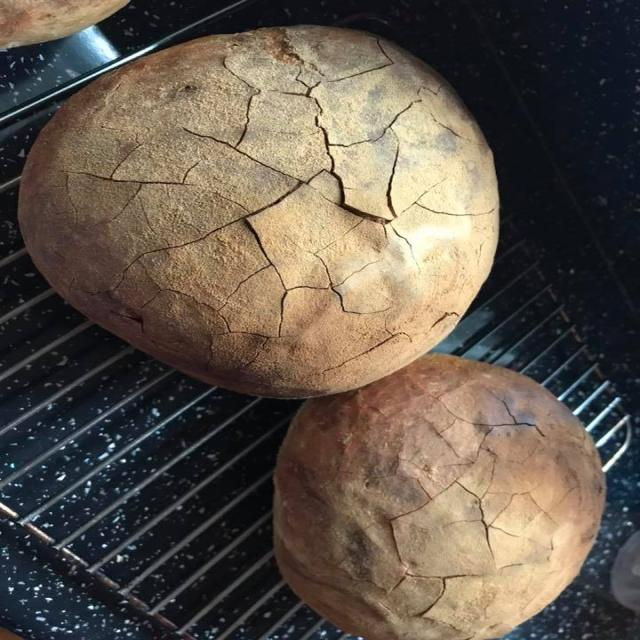Maltese-Bread: (19, 27, 498, 398), (274, 353, 604, 639)
